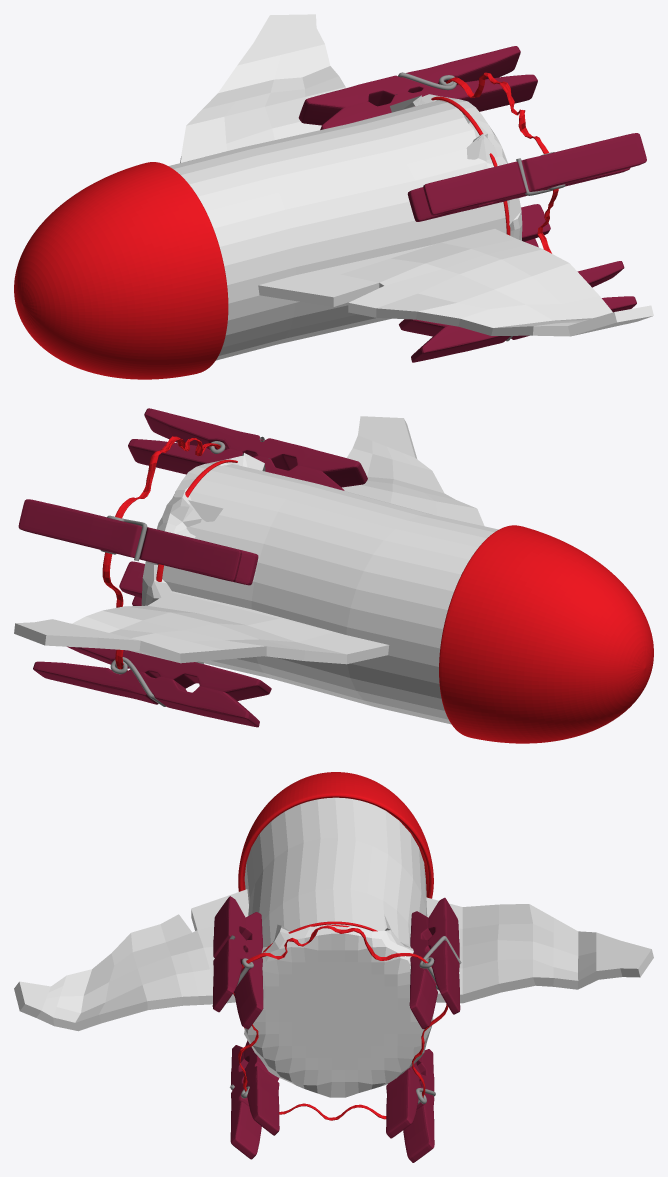
Rendered from Fusee.fbx.
The picture shows the model from 3 angles, top to bottom: view 1: azimuth 30°, elevation 25°; view 2: azimuth 150°, elevation 25°; view 3: azimuth 270°, elevation 25°; orthographic projection. The views are drawn at different scales.
Parts seen in each view (by area): view 1: Cube.002; view 2: Cube.002; view 3: Cube.002.
Part boxes in pixels (x1,y1,x2,y2): Cube.002: (14, 14, 653, 379); Cube.002: (14, 408, 653, 743); Cube.002: (14, 772, 653, 1162).
Size of the model in its own units: 473 by 183 by 521.
